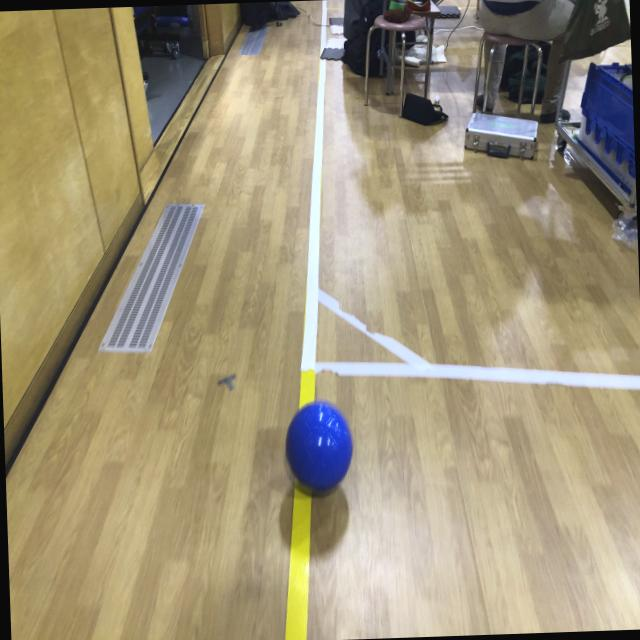blue_ball: (284, 399, 352, 496)
